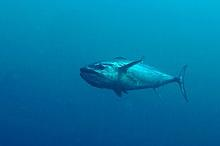Scombridae -Tunas-: (75, 52, 191, 104)
